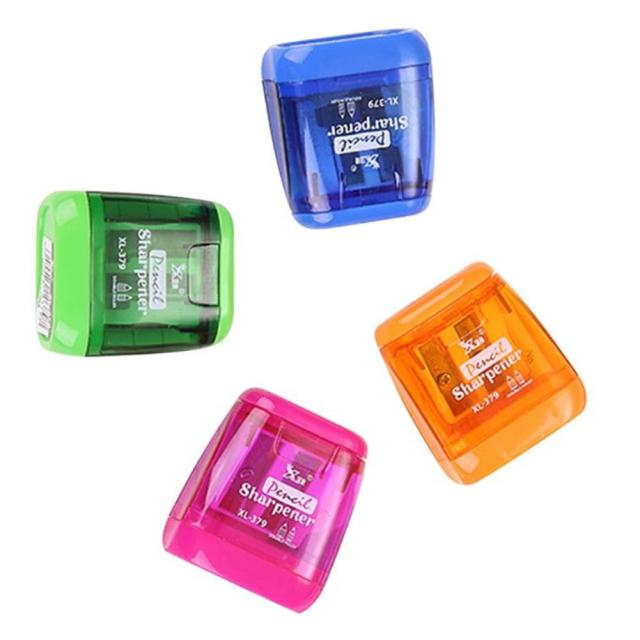pencil_sharpener: (258, 9, 460, 248)
